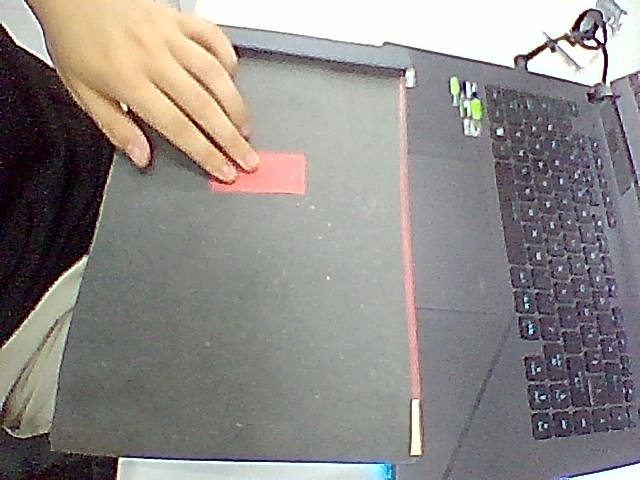card: (210, 151, 306, 195)
